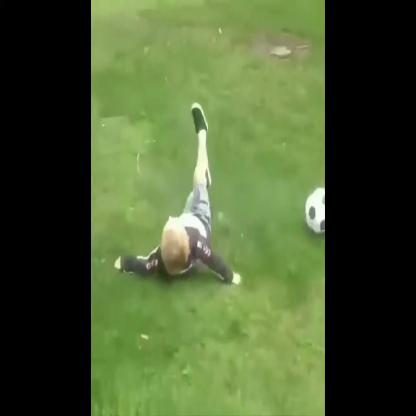Fall_Down: (113, 102, 243, 287)
